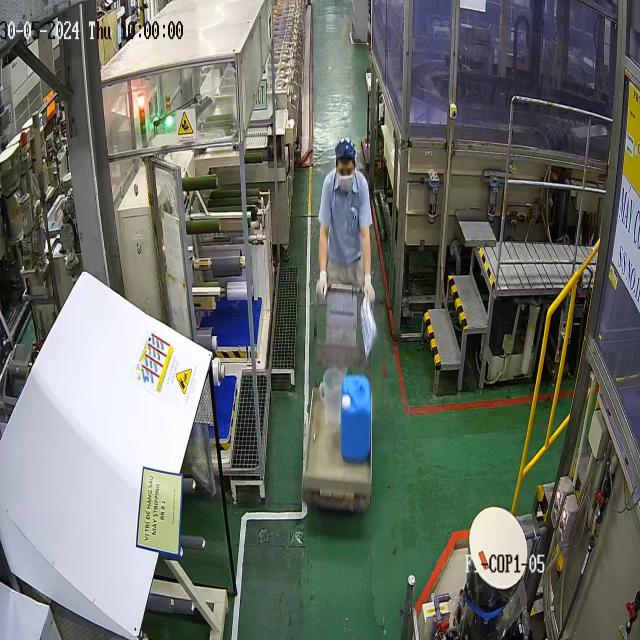Person: (316, 136, 375, 308)
